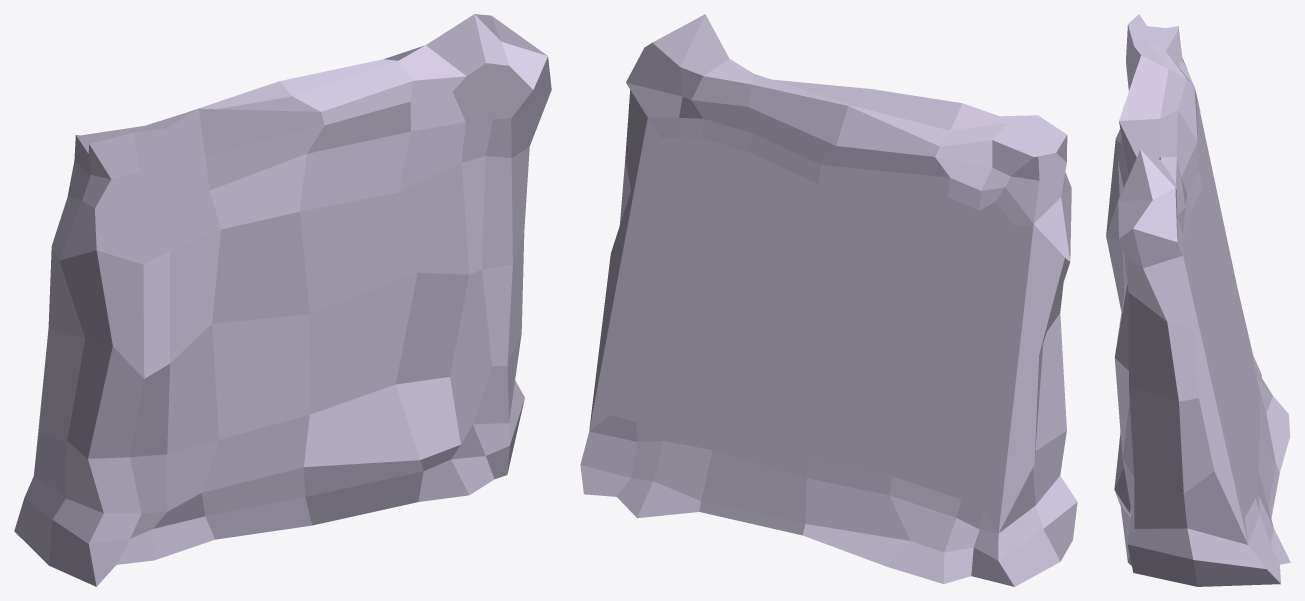
The model's file is ParedCaminableDerecha.glb.
The picture shows the model from 3 angles, left to right: view 1: azimuth 30°, elevation 25°; view 2: azimuth 150°, elevation 25°; view 3: azimuth 270°, elevation 25°; orthographic projection. The views are drawn at different scales.
Visible parts, largest first — view 1: Plane; view 2: Plane; view 3: Plane.
Part boxes in pixels (box(x1,y1,x2,y2)): Plane: box(14, 14, 551, 586); Plane: box(580, 14, 1077, 586); Plane: box(1106, 14, 1290, 586).
Bounding box in the file's own units: 2.39 × 2.24 × 0.8953.
